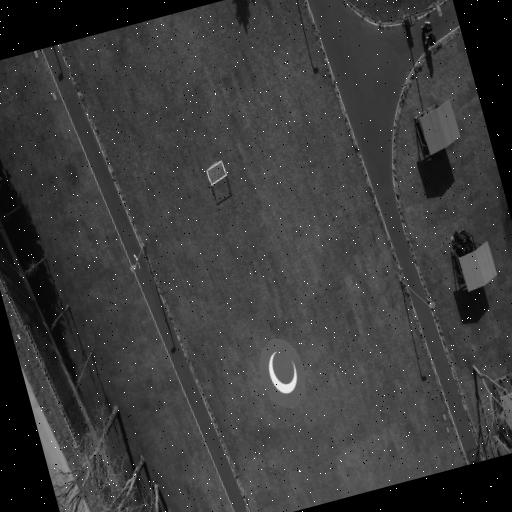UAP: (259, 338, 305, 408)
